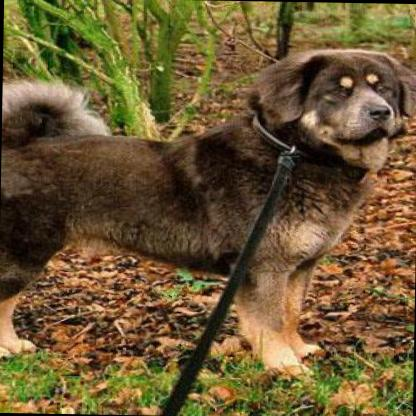Tibetan_mastiff: (0, 33, 399, 382)
